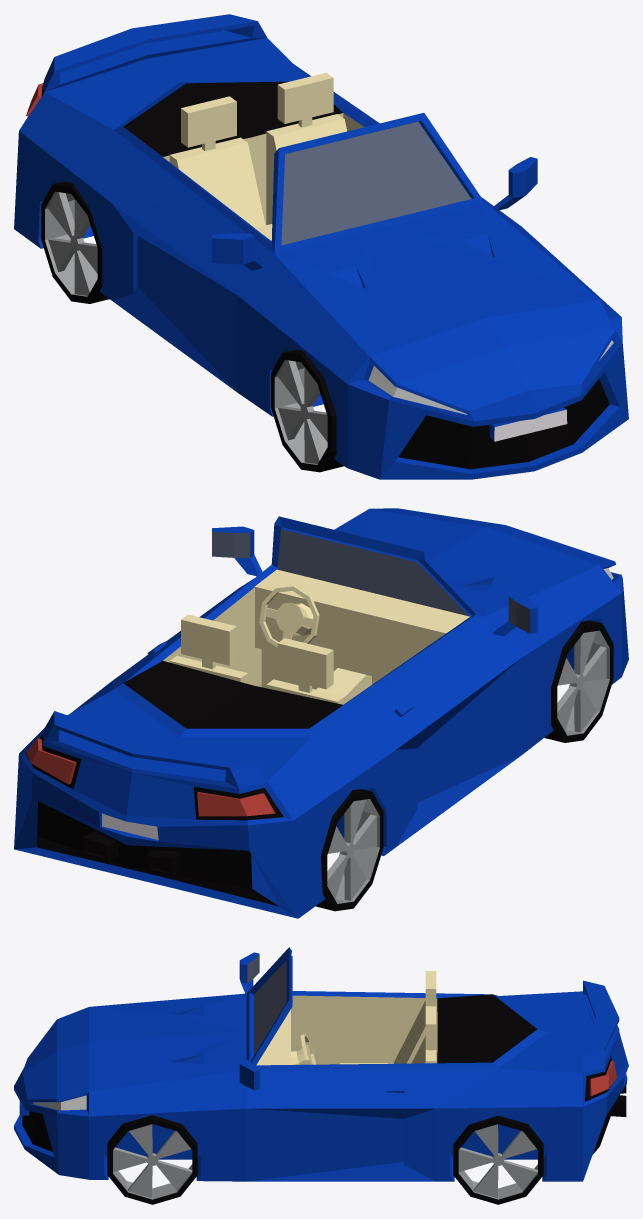
The model's file is roadster.glb.
3 views of the same model, one above another, from view 1: azimuth 30°, elevation 25°; view 2: azimuth 150°, elevation 25°; view 3: azimuth 270°, elevation 25° (orthographic). The views are drawn at different scales.
Visible parts, largest first — view 1: paint, glass, wheel_fr, wheel_rr, headlights; view 2: paint, glass, wheel_fr, wheel_rr, taillights; view 3: paint, wheel_fl, wheel_rl, glass, taillights, headlights.
Part boxes in pixels (bbox=[...]): paint: bbox=[14, 14, 628, 479]; glass: bbox=[281, 121, 471, 245]; wheel_fr: bbox=[271, 349, 343, 472]; wheel_rr: bbox=[41, 181, 109, 303]; headlights: bbox=[368, 340, 613, 414]; paint: bbox=[14, 508, 628, 918]; glass: bbox=[212, 529, 530, 633]; wheel_fr: bbox=[544, 620, 613, 742]; wheel_rr: bbox=[315, 789, 383, 911]; taillights: bbox=[26, 738, 275, 816]; paint: bbox=[14, 947, 628, 1181]; wheel_fl: bbox=[107, 1115, 197, 1204]; wheel_rl: bbox=[453, 1115, 543, 1204]; glass: bbox=[247, 954, 286, 1055]; taillights: bbox=[589, 1061, 616, 1096]; headlights: bbox=[33, 1095, 86, 1110].
Bounding box in the file's own units: 1.65 × 1.15 × 3.58.
